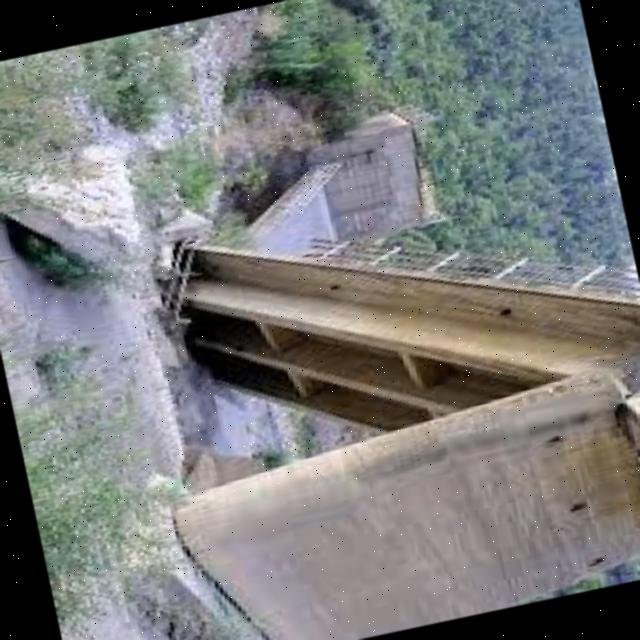bridge collapse: (80, 45, 640, 617)
